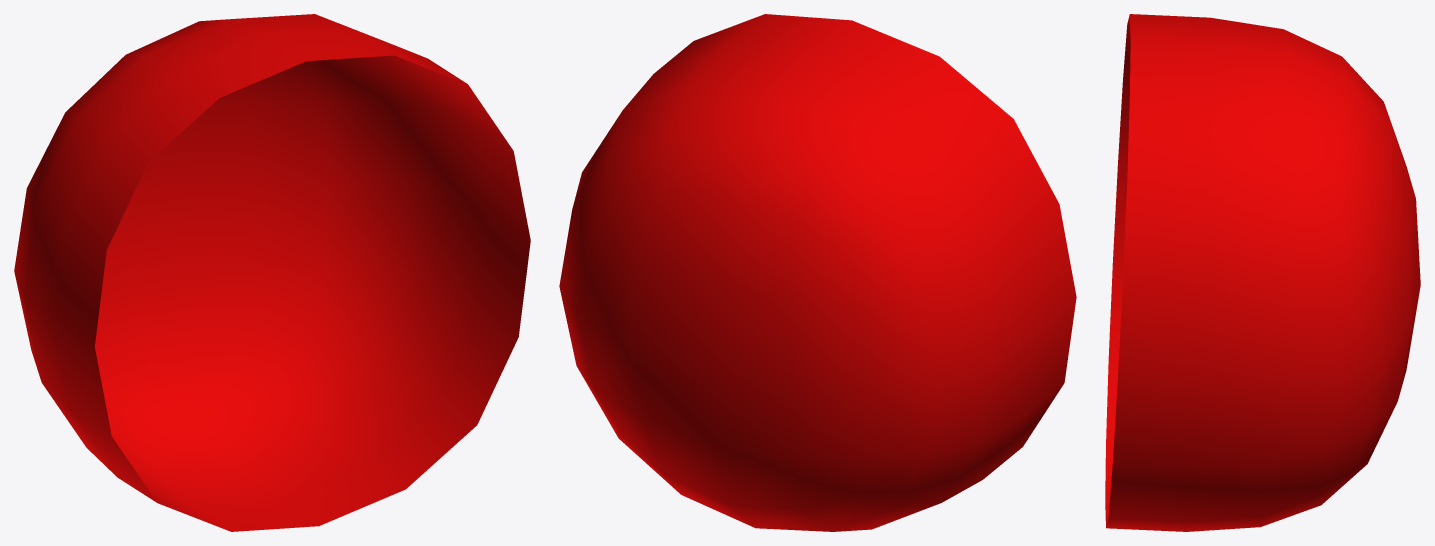
Rendered from Encendido.fbx.
3 views of the same model, side by side, from view 1: azimuth 30°, elevation 25°; view 2: azimuth 150°, elevation 25°; view 3: azimuth 270°, elevation 25° (orthographic).
Parts seen in each view (by area): view 1: pCube66; view 2: pCube66; view 3: pCube66.
Boxes of the visible parts, x1,y1,x2,y2 form: pCube66: (14, 14, 530, 531); pCube66: (559, 14, 1076, 531); pCube66: (1105, 14, 1420, 531).
Bounding box in the file's own units: 0.8477 × 0.8534 × 0.5274.
